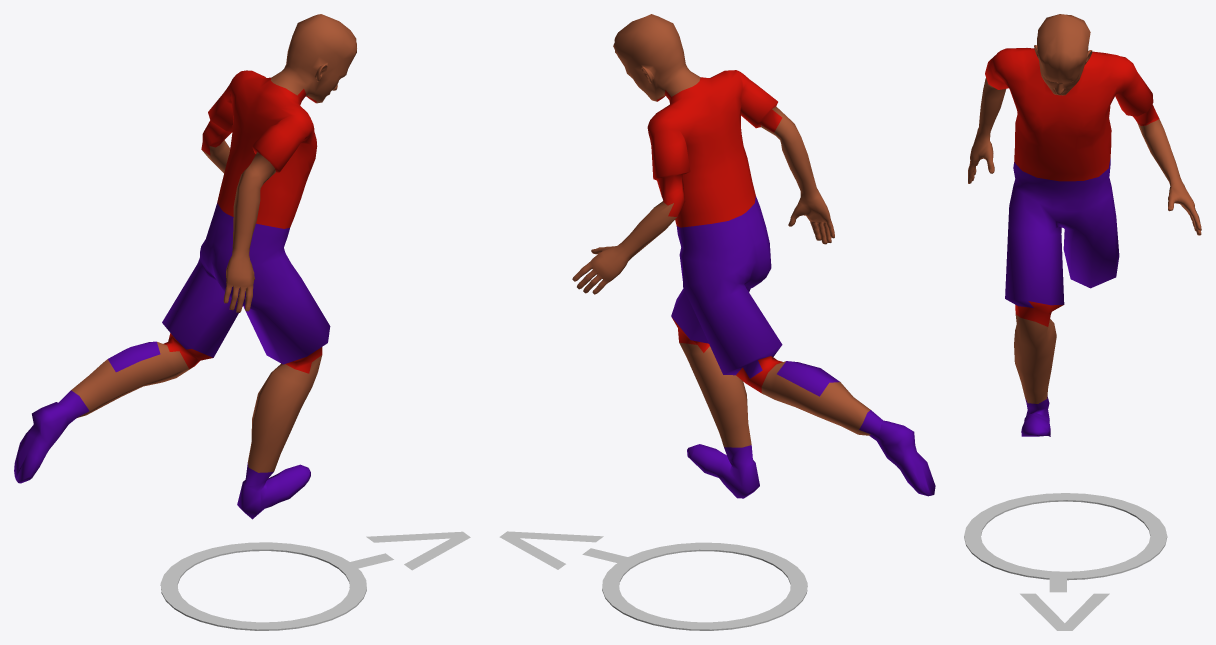
File: player_000002.obj
3 views of the same model, side by side, from view 1: azimuth 30°, elevation 25°; view 2: azimuth 150°, elevation 25°; view 3: azimuth 270°, elevation 25° (orthographic).
Parts seen in each view (by area): view 1: soccerplayer.002_mesh.003, Circle, Text.001_Mesh.001; view 2: soccerplayer.002_mesh.003, Circle, Text.001_Mesh.001; view 3: soccerplayer.002_mesh.003, Circle, Text.001_Mesh.001.
Boxes of the visible parts, x1,y1,x2,y2 form: soccerplayer.002_mesh.003: (14,14,356,519); Circle: (160,542,366,630); Text.001_Mesh.001: (346,531,470,570); soccerplayer.002_mesh.003: (572,14,935,498); Circle: (602,542,807,630); Text.001_Mesh.001: (499,531,630,569); soccerplayer.002_mesh.003: (968,14,1201,436); Circle: (964,493,1167,580); Text.001_Mesh.001: (1020,573,1109,630).
Bounding box in the file's own units: 2.68 × 3.25 × 1.27.
